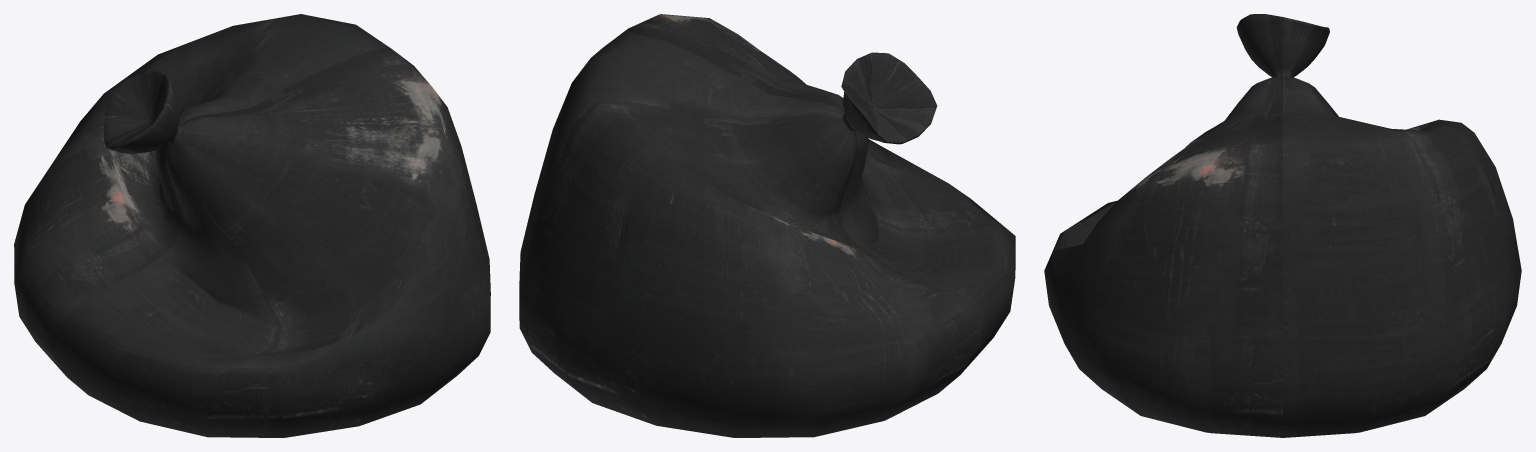
Rendered from trash_bag02.fbx.
3 views of the same model, side by side, from view 1: azimuth 30°, elevation 25°; view 2: azimuth 150°, elevation 25°; view 3: azimuth 270°, elevation 25° (orthographic). The views are drawn at different scales.
Visible parts, largest first — view 1: trash_bag02; view 2: trash_bag02; view 3: trash_bag02.
Part boxes in pixels (box(x1,y1,x2,y2)): trash_bag02: box(14, 14, 490, 437); trash_bag02: box(519, 14, 1015, 437); trash_bag02: box(1044, 14, 1521, 437).
Bounding box in the file's own units: 2.66 × 2.03 × 2.77.
